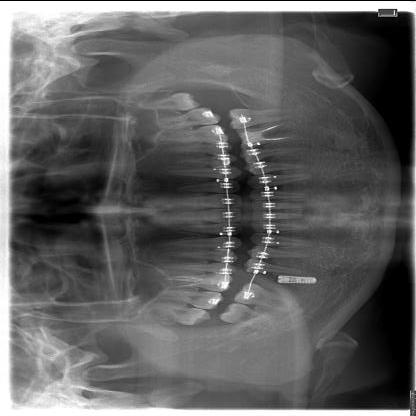ITI: (277, 274, 320, 284)
